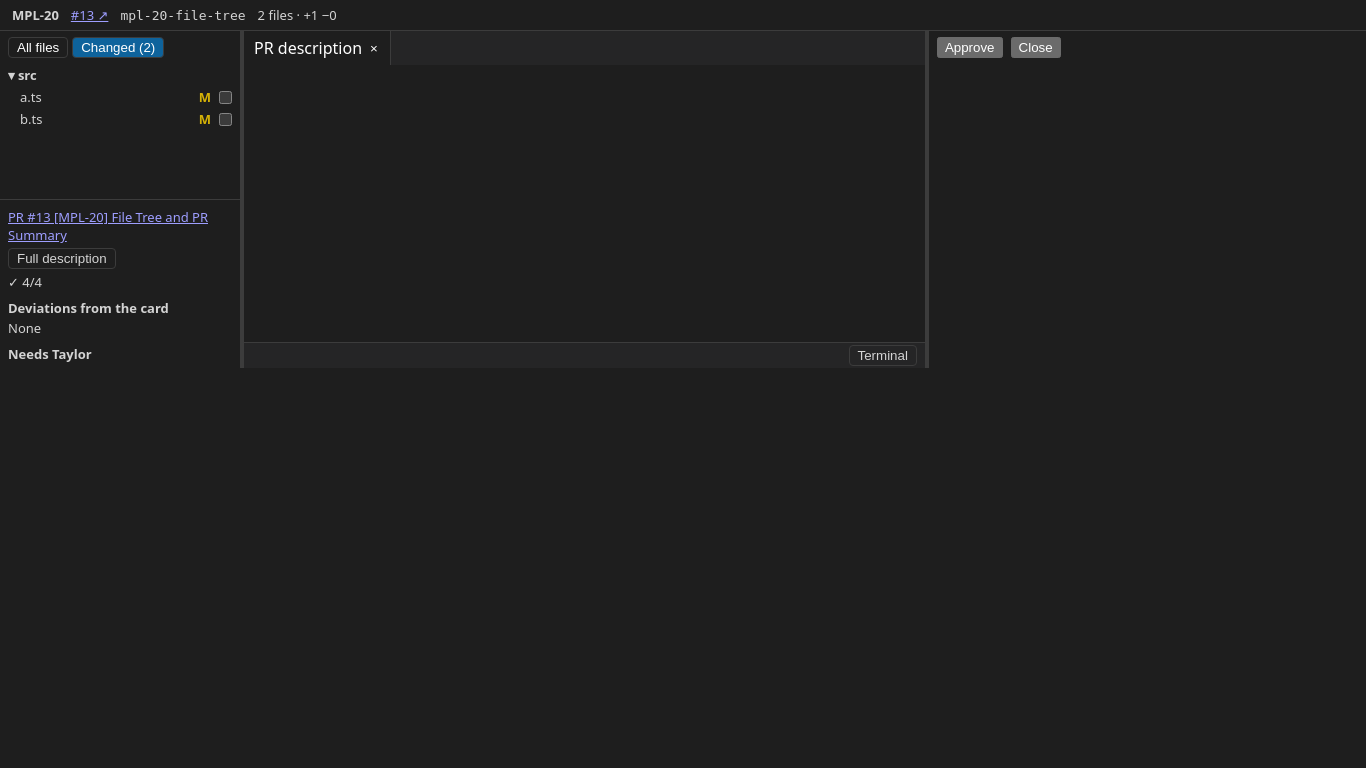
CardTab › Approve asks first while a changed file is not viewed: two files
Expected: the checkbox named "Viewed src/a.ts" is shown, top-left (219, 90), bottom-right (232, 104)
Click the button "Approve" at (970, 48), box top-left (937, 37), bottom-right (1003, 58)
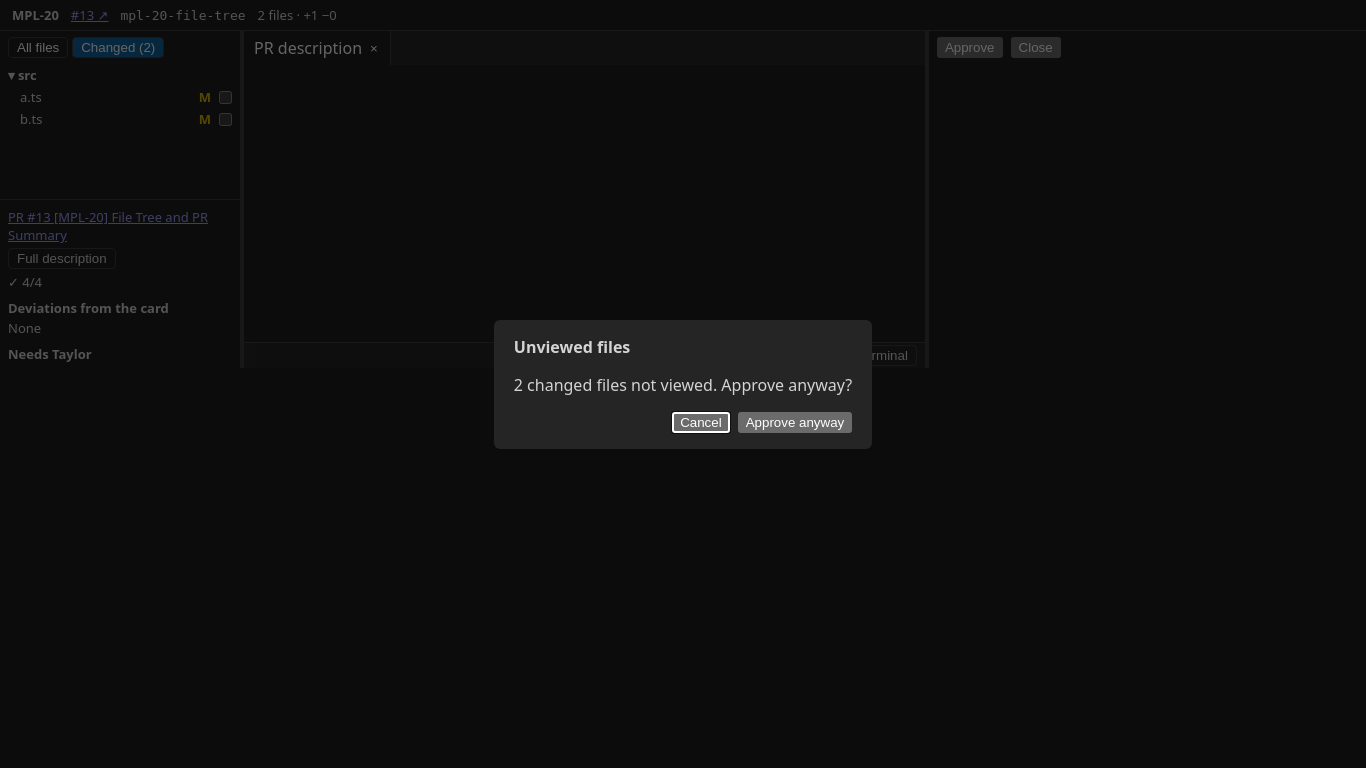
Expected: the dialog shows "2 changed files not viewed. Approve anyway?", top-left (514, 374), bottom-right (852, 396)
